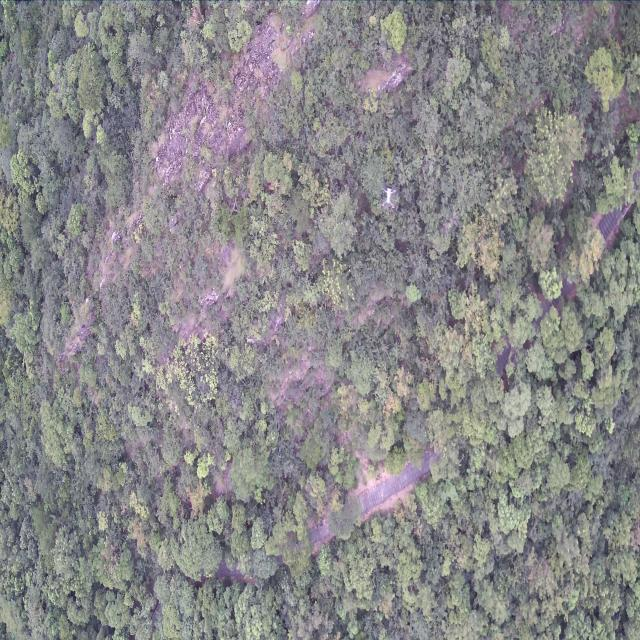UAV: (381, 186, 396, 208)
